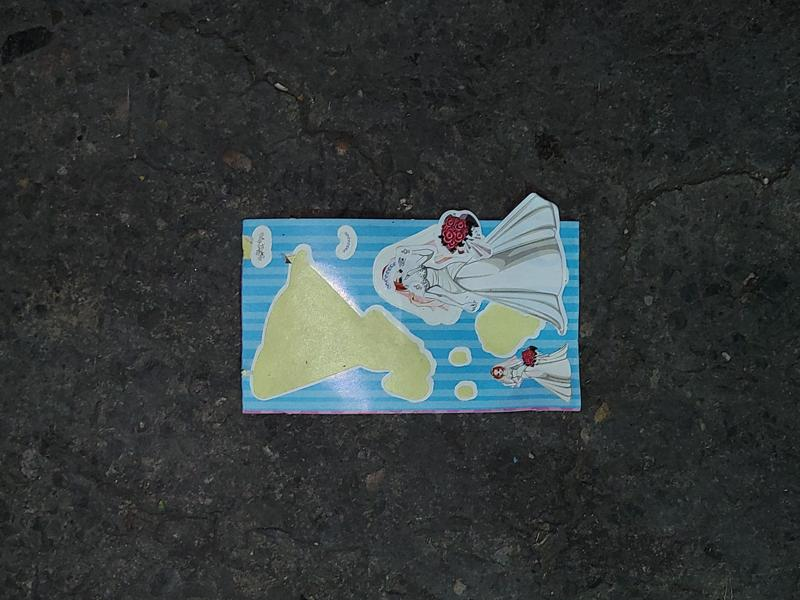papel: (240, 194, 581, 418)
